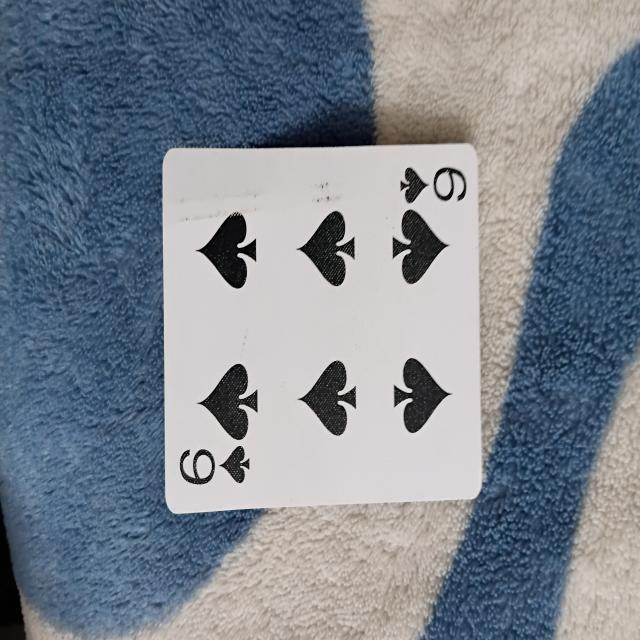6S: (164, 145, 480, 516)
